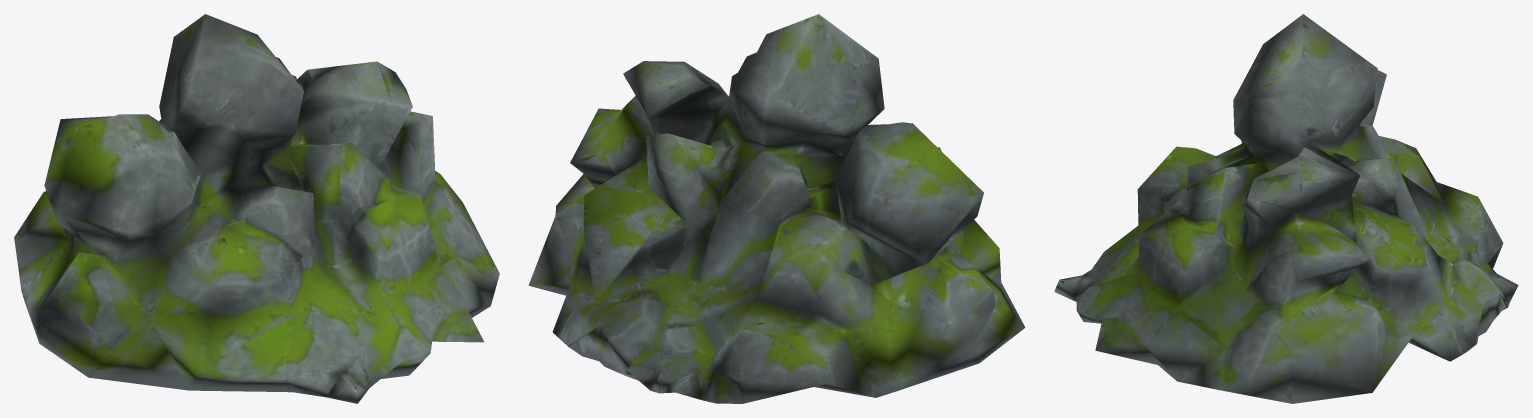
File: rock_cluster_lo.glb
The picture shows the model from 3 angles, left to right: view 1: azimuth 30°, elevation 25°; view 2: azimuth 150°, elevation 25°; view 3: azimuth 270°, elevation 25°; orthographic projection. The views are drawn at different scales.
Bounding box in the file's own units: 0.9194 × 0.6045 × 0.9404.
Materials: 1 (1 with a texture image).
